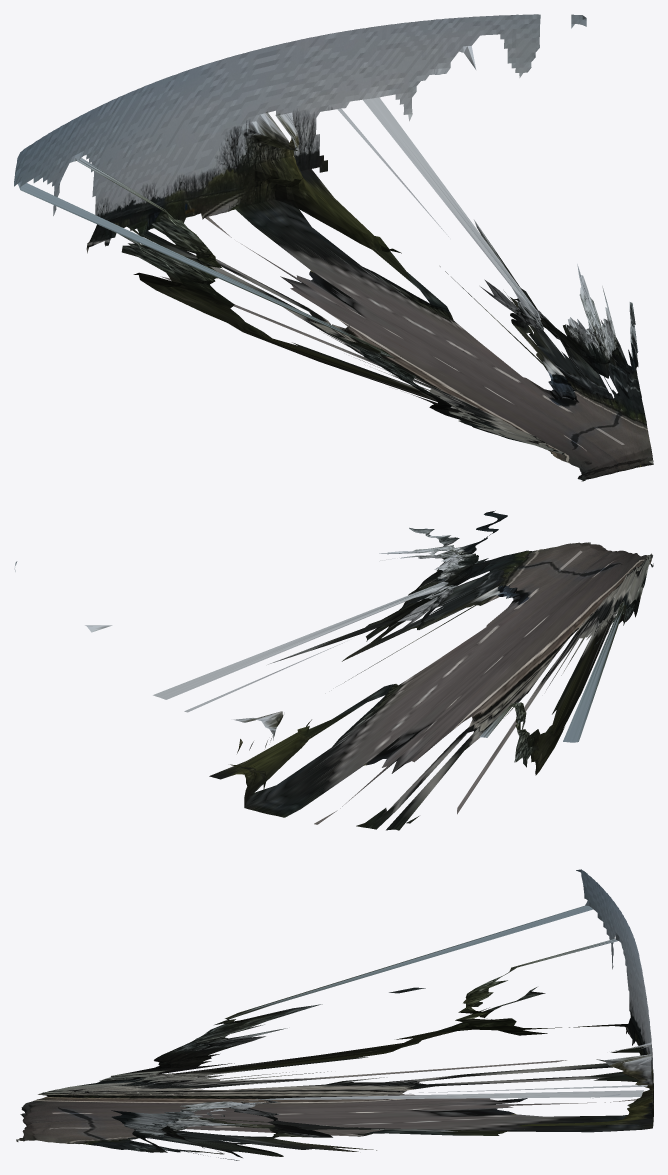
3 views of the same model, one above another, from view 1: azimuth 30°, elevation 25°; view 2: azimuth 150°, elevation 25°; view 3: azimuth 270°, elevation 25° (orthographic). The views are drawn at different scales.
Visible parts, largest first — view 1: defaultobject; view 2: defaultobject; view 3: defaultobject.
Boxes of the visible parts, x1=… form: defaultobject: x1=14, y1=14, x2=653, y2=481; defaultobject: x1=14, y1=510, x2=653, y2=830; defaultobject: x1=16, y1=869, x2=653, y2=1160.
Bounding box in the file's own units: 40.66 × 11.78 × 44.7.
Materials: 1 (1 with a texture image).
